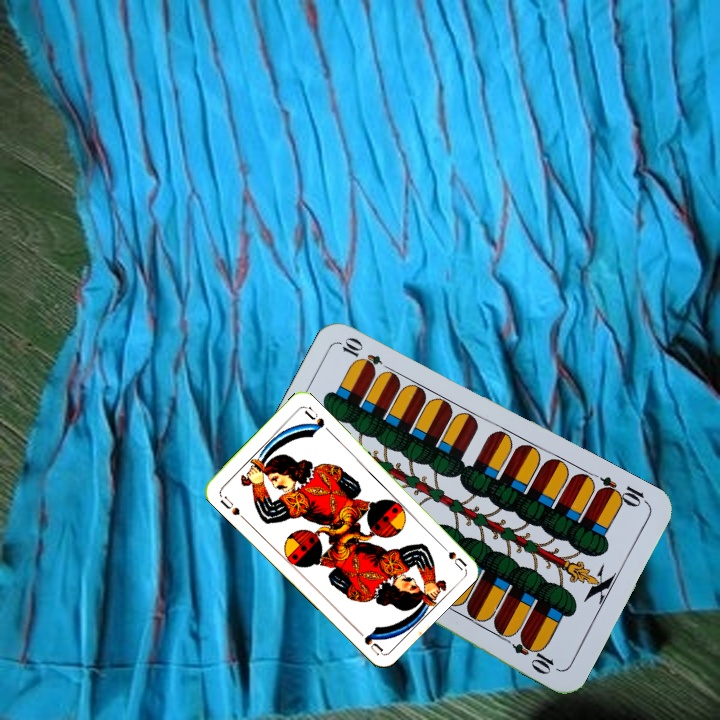E10: (593, 472, 651, 510)
SU: (434, 537, 468, 572), (216, 492, 248, 522)
